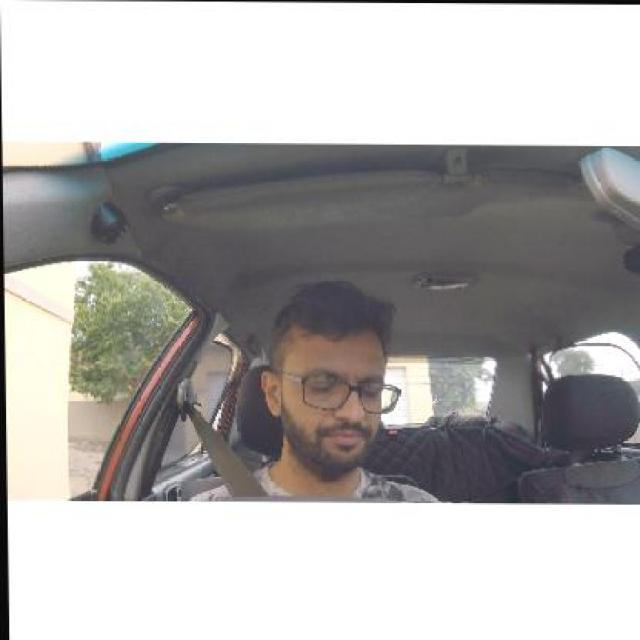drowsy: (253, 298, 402, 481)
